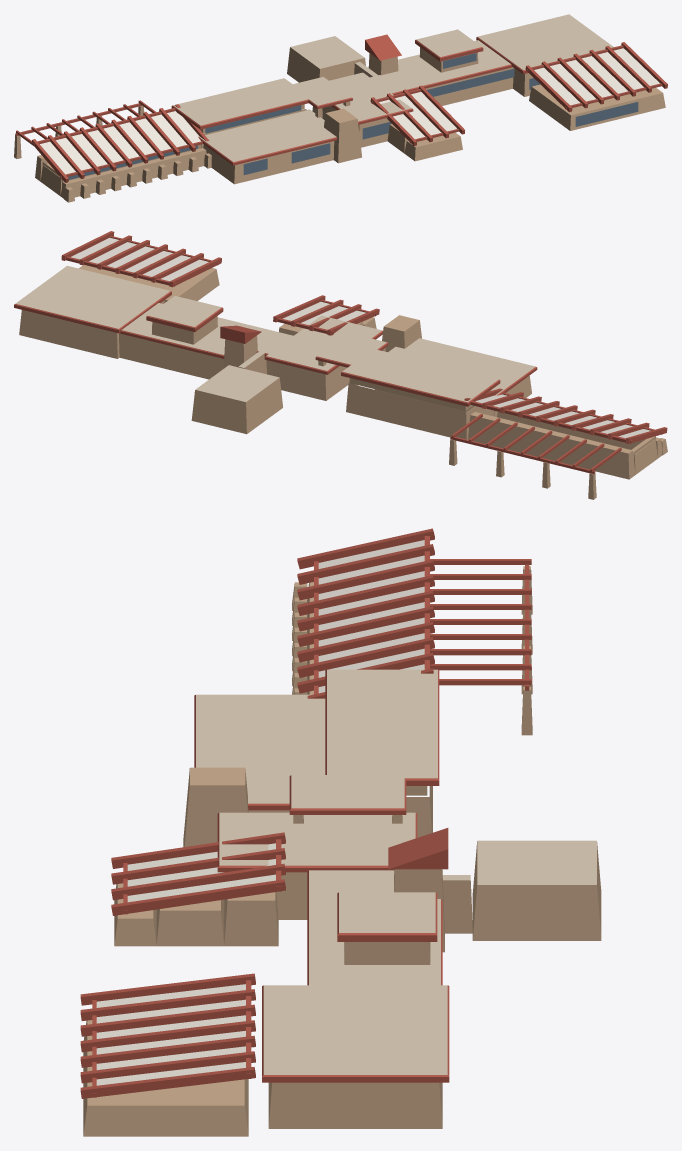
The model's file is phx-taliesin-west.glb.
The picture shows the model from 3 angles, top to bottom: view 1: azimuth 30°, elevation 25°; view 2: azimuth 150°, elevation 25°; view 3: azimuth 270°, elevation 25°; orthographic projection. The views are drawn at different scales.
Visible parts, largest first — view 1: Taliesin West; view 2: Taliesin West; view 3: Taliesin West.
Part boxes in pixels (box(x1,y1,x2,y2)): Taliesin West: box(14, 14, 667, 202); Taliesin West: box(14, 231, 667, 499); Taliesin West: box(80, 528, 601, 1136).
Bounding box in the file's own units: 114 × 10.4 × 46.96.
